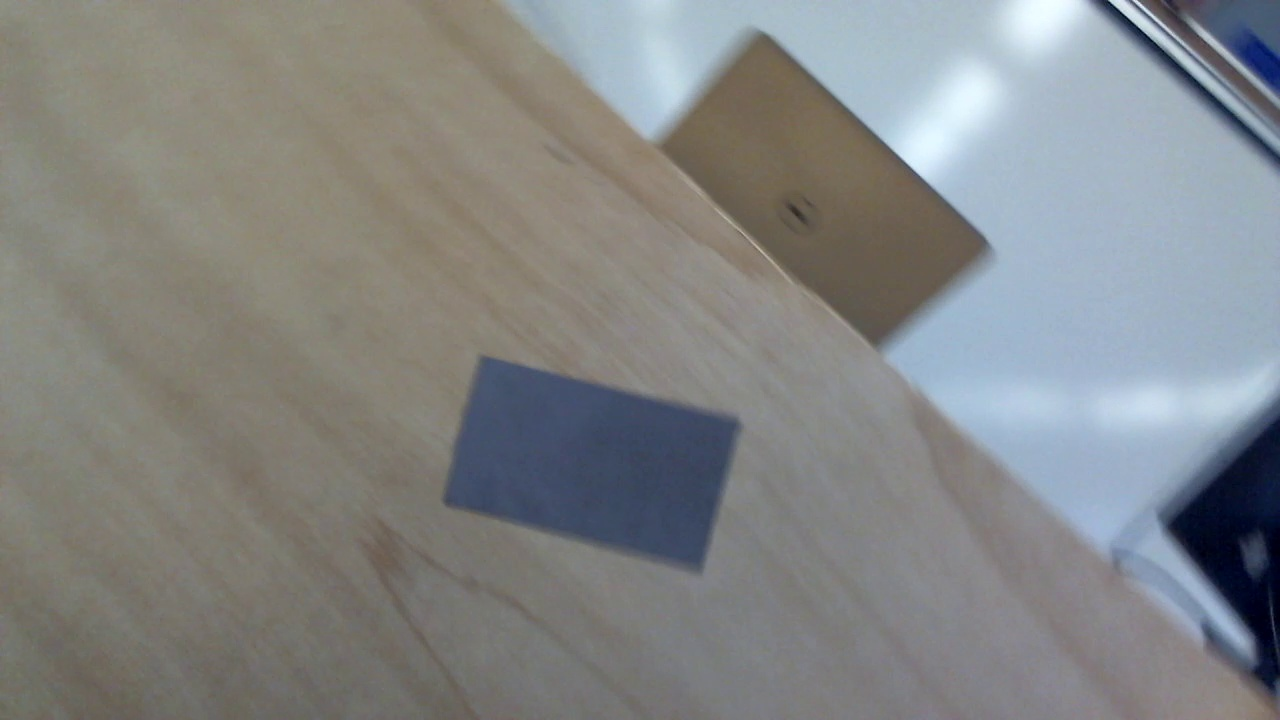Tape: (442, 355, 741, 579)
